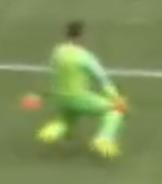goalkeeper: (17, 2, 141, 172)
